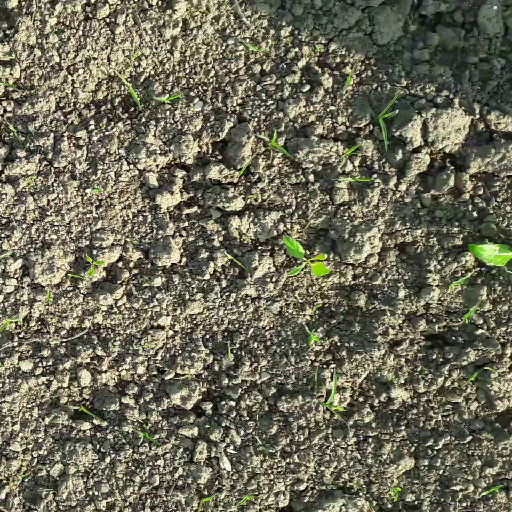sugarbeet: (279, 232, 334, 282), (464, 241, 512, 270), (83, 252, 109, 278)
weed: (310, 359, 351, 423), (252, 126, 300, 165), (370, 89, 400, 151), (113, 71, 146, 113), (444, 265, 475, 296), (346, 54, 363, 101), (301, 323, 326, 348), (334, 140, 358, 164), (332, 175, 376, 188), (135, 431, 167, 447), (460, 304, 481, 328), (75, 404, 102, 422), (151, 90, 183, 105), (477, 482, 504, 499), (235, 492, 258, 509), (4, 122, 25, 140), (387, 485, 402, 507), (197, 489, 221, 502), (1, 317, 19, 334), (238, 159, 253, 177), (244, 44, 265, 56), (2, 79, 20, 93), (40, 288, 51, 306)
